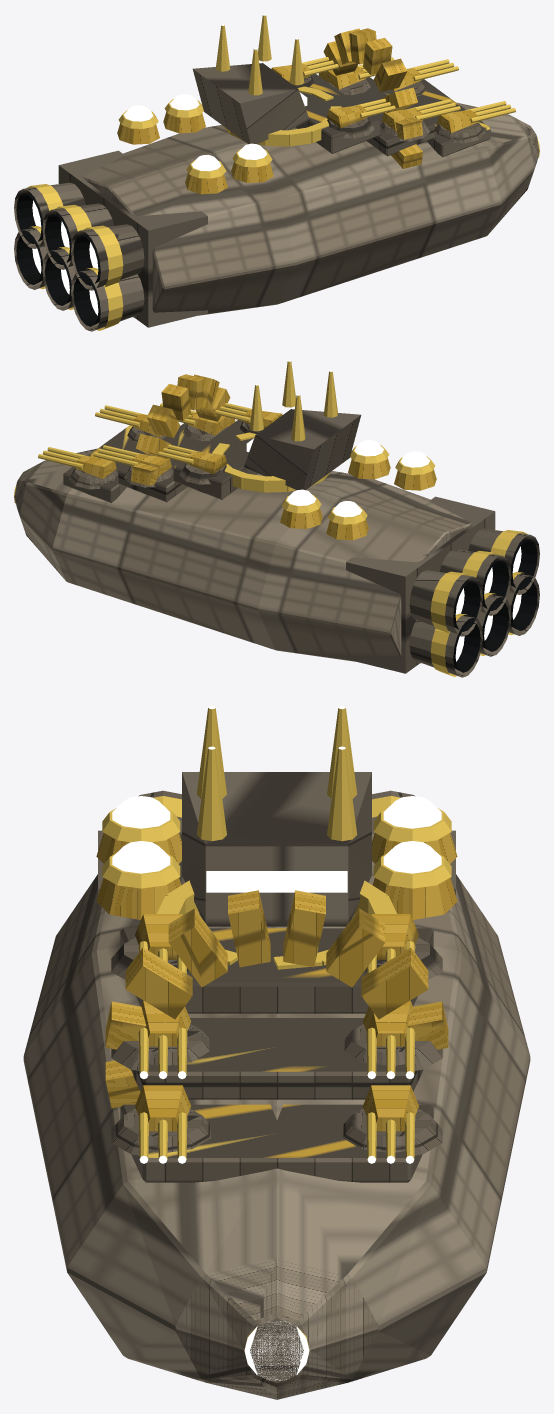
The model's file is dreadnought.glb.
The picture shows the model from 3 angles, top to bottom: view 1: azimuth 30°, elevation 25°; view 2: azimuth 150°, elevation 25°; view 3: azimuth 270°, elevation 25°; orthographic projection. The views are drawn at different scales.
Parts seen in each view (by area): view 1: hull_body, engine_block, sensor_tower, weapon_turrets, shield_domes; view 2: hull_body, engine_block, sensor_tower, weapon_turrets, shield_domes; view 3: hull_body, sensor_tower, weapon_turrets, shield_domes, engine_block.
Part boxes in pixels (x1,y1,x2,y2): hull_body: (82,28,539,317); engine_block: (14,150,207,331); sensor_tower: (192,14,341,146); weapon_turrets: (271,57,539,157); shield_domes: (117,94,273,194); hull_body: (14,374,471,663); engine_block: (346,496,539,677); sensor_tower: (212,360,361,492); weapon_turrets: (14,403,282,503); shield_domes: (280,440,436,540); hull_body: (23,834,530,1399); sensor_tower: (157,706,396,969); weapon_turrets: (111,914,442,1380); shield_domes: (96,796,457,919); engine_block: (98,790,455,904).
Bounding box in the file's own units: 80 × 40.34 × 36.99.
1 material, 1 textured.
